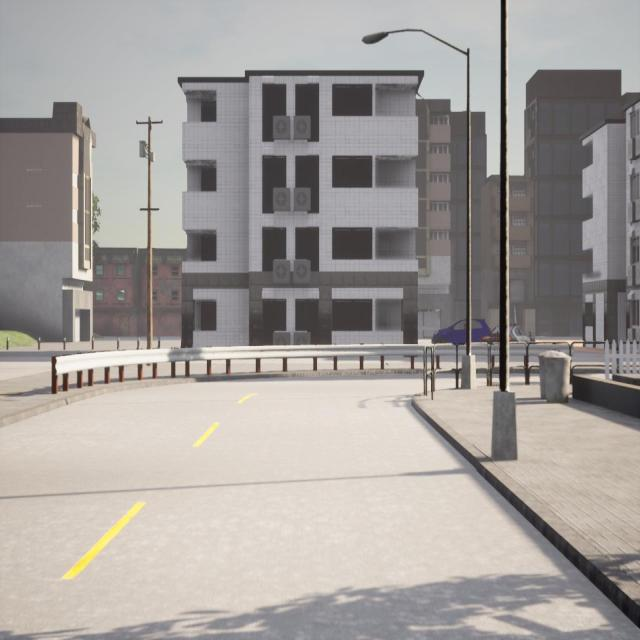Vehicle: (431, 318, 491, 344), (482, 323, 535, 344)
